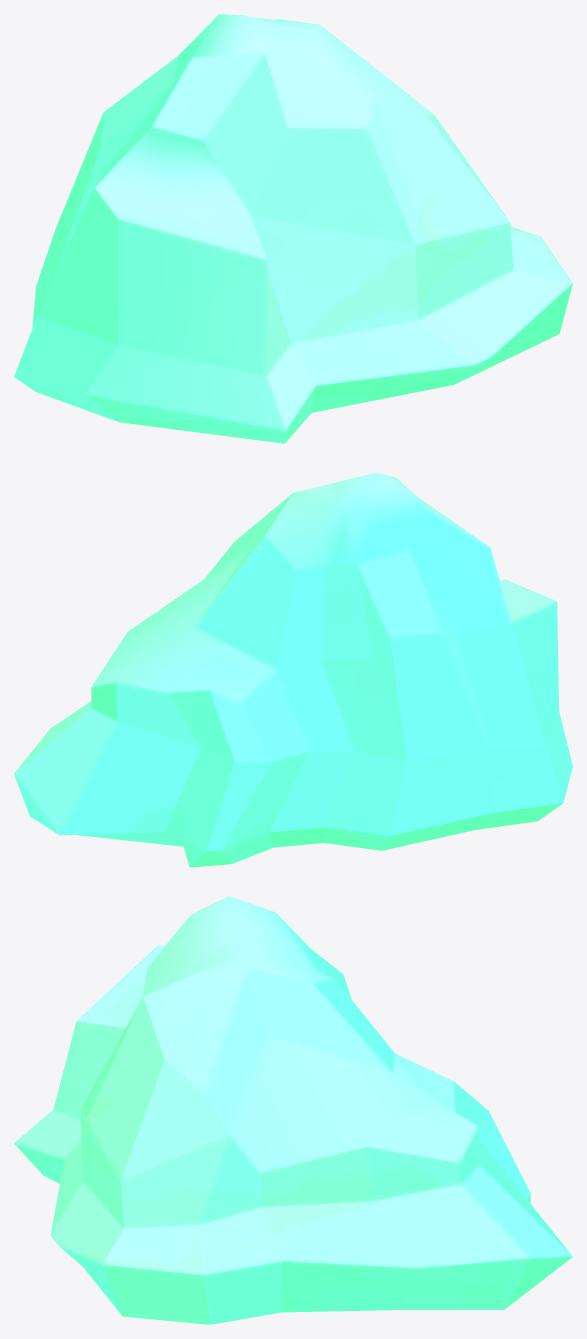
The model's file is OreRock02_Model (1).fbx.
3 renders of one model, top to bottom at view 1: azimuth 30°, elevation 25°; view 2: azimuth 150°, elevation 25°; view 3: azimuth 270°, elevation 25°, orthographic. The views are drawn at different scales.
Parts seen in each view (by area): view 1: pPlane2; view 2: pPlane2; view 3: pPlane2.
Boxes of the visible parts, x1,y1,x2,y2 form: pPlane2: [14, 14, 572, 443]; pPlane2: [14, 472, 572, 867]; pPlane2: [14, 896, 572, 1324].
Size of the model in its own units: 4.4 by 2.82 by 4.66.
